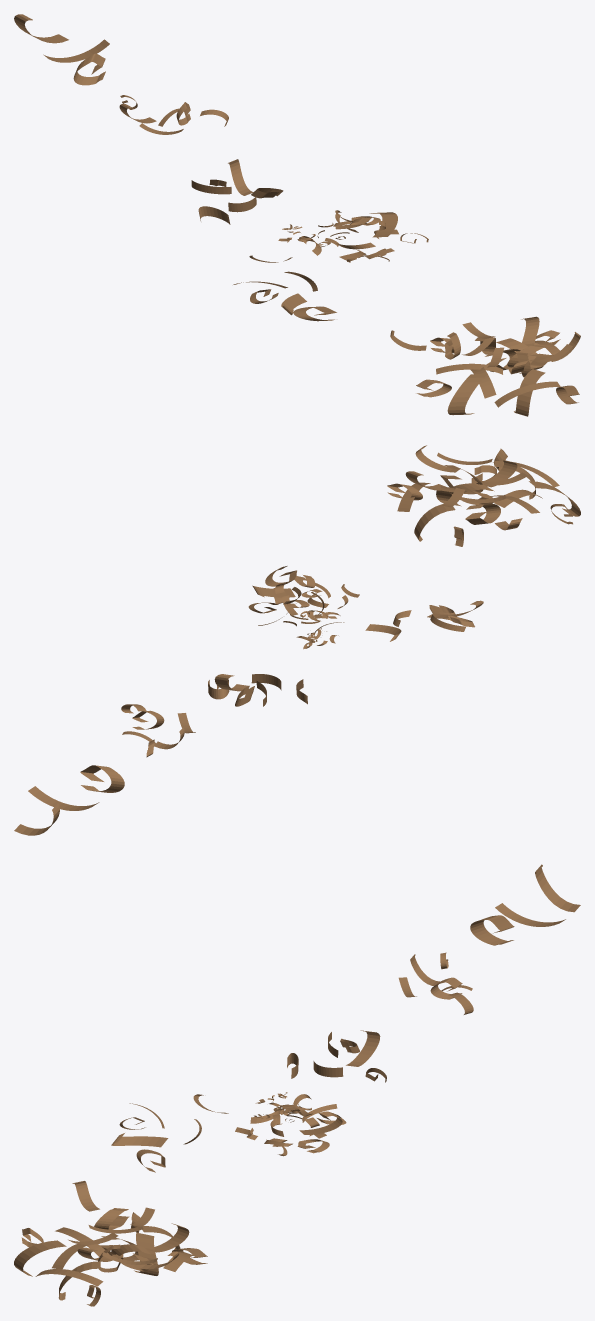
File: SawDust.fbx
The picture shows the model from 3 angles, top to bottom: view 1: azimuth 30°, elevation 25°; view 2: azimuth 150°, elevation 25°; view 3: azimuth 330°, elevation 25°; orthographic projection. The views are drawn at different scales.
Visible parts, largest first — view 1: SawDustClump.001, SawDustClump.002, SawDustGroup.002, SawDustGroup.001, SawDustSingle.003; view 2: SawDustClump.001, SawDustClump.002, SawDustGroup.002, SawDustGroup.001, SawDustSingle.003; view 3: SawDustClump.001, SawDustClump.002, SawDustGroup.002, SawDustGroup.001, SawDustSingle.003, SawDustSingle.001.
Boxes of the visible parts, x1,y1,x2,y2 form: SawDustClump.001: (390, 316, 580, 416); SawDustClump.002: (233, 210, 428, 321); SawDustGroup.002: (191, 159, 283, 224); SawDustGroup.001: (119, 95, 228, 134); SawDustSingle.003: (73, 53, 105, 85); SawDustClump.001: (387, 445, 580, 546); SawDustClump.002: (248, 566, 483, 649); SawDustGroup.002: (208, 674, 307, 706); SawDustGroup.001: (121, 704, 195, 757); SawDustSingle.003: (80, 765, 124, 792); SawDustClump.001: (14, 1181, 207, 1306); SawDustClump.002: (111, 1092, 346, 1172); SawDustGroup.002: (287, 1030, 386, 1082); SawDustGroup.001: (398, 952, 473, 1014); SawDustSingle.003: (470, 915, 514, 945); SawDustSingle.001: (535, 864, 580, 912).
Bounding box in the file's own units: 408 × 108 × 1748.
